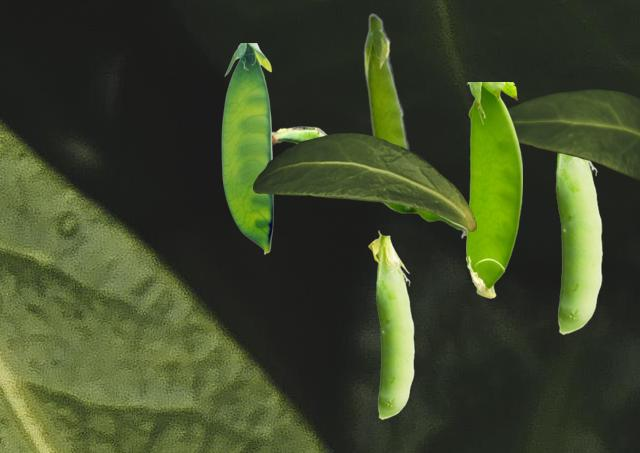pea: (273, 126, 465, 239), (466, 82, 521, 297), (221, 43, 272, 253), (363, 12, 411, 209), (368, 230, 413, 418), (554, 154, 601, 333)
